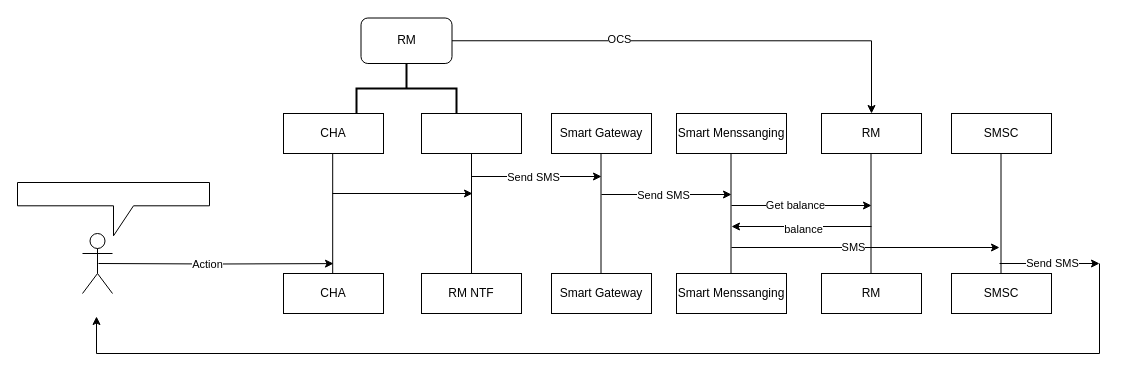
This 1125x379 diagram has some shape labels left out. The box of each missing label's shape, as (x1, y1, x2, y2) in pixels:
Actor: (82, 232, 112, 294)
NTF: (420, 112, 522, 154)
Realiza chamada de voz para *445: (16, 182, 210, 236)
